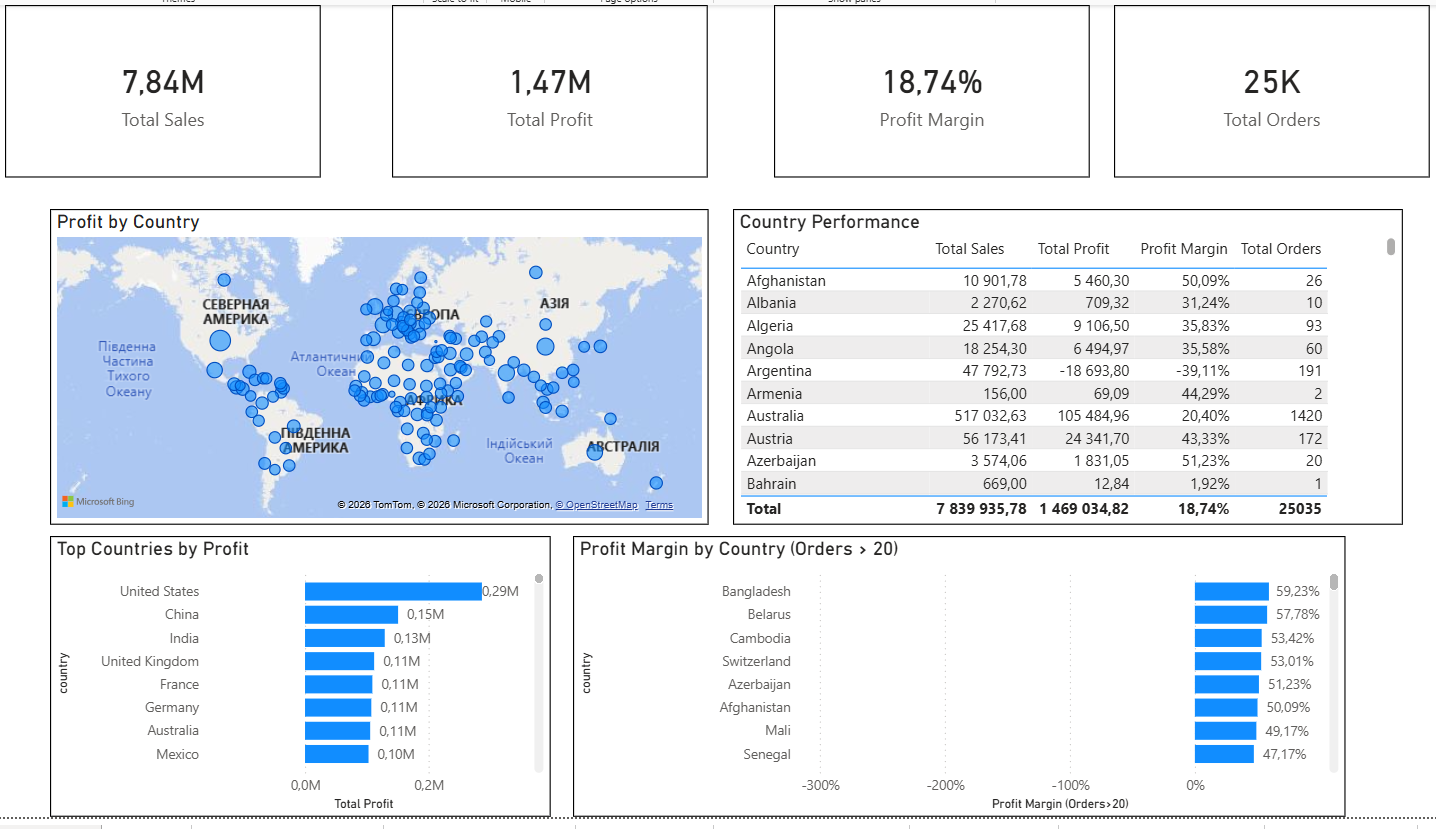

What the dashboard file says about the page in this screenshot:
{"tool":"powerbi","page":{"name":"Countries / Markets Analysis","canvas":[1280,720],"ordinal":4},"visuals":[{"type":"card","fields":{"Values":["SuperStoreOrders.Total Sales"]},"box":[9.7,0,280.1,152.7],"z":0},{"type":"card","fields":{"Values":["SuperStoreOrders.Profit Margin"]},"box":[691.6,0,280.1,152.7],"z":1000},{"type":"card","fields":{"Values":["SuperStoreOrders.Orders Count"]},"box":[993.1,0,280.1,152.7],"z":2000},{"type":"card","fields":{"Values":["SuperStoreOrders.Total Profit"]},"box":[353.1,0,280.1,152.7],"z":3000},{"type":"map","title":"Profit by Country","fields":{"Category":["SuperStoreOrders.country"],"Size":["SuperStoreOrders.Total Profit"]},"box":[49.6,180.9,583.6,280.1],"z":4000},{"type":"clusteredBarChart","title":"Top Countries by Profit","fields":{"Category":["SuperStoreOrders.country"],"Y":["SuperStoreOrders.Total Profit"]},"box":[49.6,470.8,443.5,249],"z":5000},{"type":"clusteredBarChart","title":"Profit Margin by Country (Orders > 20)","fields":{"Category":["SuperStoreOrders.country"],"Y":["SuperStoreOrders.Profit Margin (Orders>20)"]},"box":[513.6,470.8,684.7,249],"z":6000},{"type":"tableEx","title":"Country Performance","fields":{"Values":["SuperStoreOrders.country","SuperStoreOrders.Total Sales","SuperStoreOrders.Total Profit","SuperStoreOrders.Profit Margin","SuperStoreOrders.Orders Count"]},"box":[655.6,180.9,594.3,280.1],"z":7000}]}

Visuals, with their boxes on the page's 1280x720 design canvas (x1, y1, x2, y2). These are canvas units, not pixel positions in the 1436x829 screenshot, which may show the page scaled, cropped or inside an application window:
card - SuperStoreOrders.Total Sales: (left=10, top=0, right=290, bottom=153)
card - SuperStoreOrders.Profit Margin: (left=692, top=0, right=972, bottom=153)
card - SuperStoreOrders.Orders Count: (left=993, top=0, right=1273, bottom=153)
card - SuperStoreOrders.Total Profit: (left=353, top=0, right=633, bottom=153)
"Profit by Country" map: (left=50, top=181, right=633, bottom=461)
"Top Countries by Profit" clusteredBarChart: (left=50, top=471, right=493, bottom=720)
"Profit Margin by Country (Orders > 20)" clusteredBarChart: (left=514, top=471, right=1198, bottom=720)
"Country Performance" tableEx: (left=656, top=181, right=1250, bottom=461)
